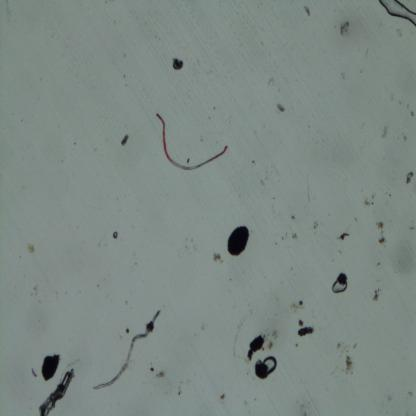Air bubble: (378, 0, 415, 29), (263, 354, 278, 376), (332, 280, 348, 295), (113, 231, 118, 239)
Background material: (38, 367, 76, 415), (232, 307, 254, 356), (226, 224, 250, 256), (247, 334, 265, 362), (42, 353, 60, 380), (305, 215, 323, 238), (374, 221, 388, 247), (253, 358, 269, 379), (265, 328, 278, 352), (342, 354, 356, 376), (175, 375, 189, 397), (297, 319, 314, 337), (170, 57, 186, 72), (291, 300, 305, 314), (338, 228, 352, 242), (339, 21, 351, 36), (372, 286, 383, 302), (119, 133, 130, 147), (364, 195, 376, 207), (212, 253, 224, 265), (276, 102, 287, 115), (266, 76, 276, 90), (260, 175, 268, 192), (405, 171, 414, 186), (336, 342, 347, 353), (380, 124, 388, 139), (25, 243, 35, 254), (218, 391, 228, 402), (303, 5, 312, 17), (30, 366, 38, 378), (340, 70, 346, 82), (291, 232, 298, 242), (288, 215, 297, 222), (410, 110, 415, 118), (251, 158, 255, 166)
Cellulose filter fibre: (92, 310, 163, 392)
Microfibre: (155, 112, 229, 171)
